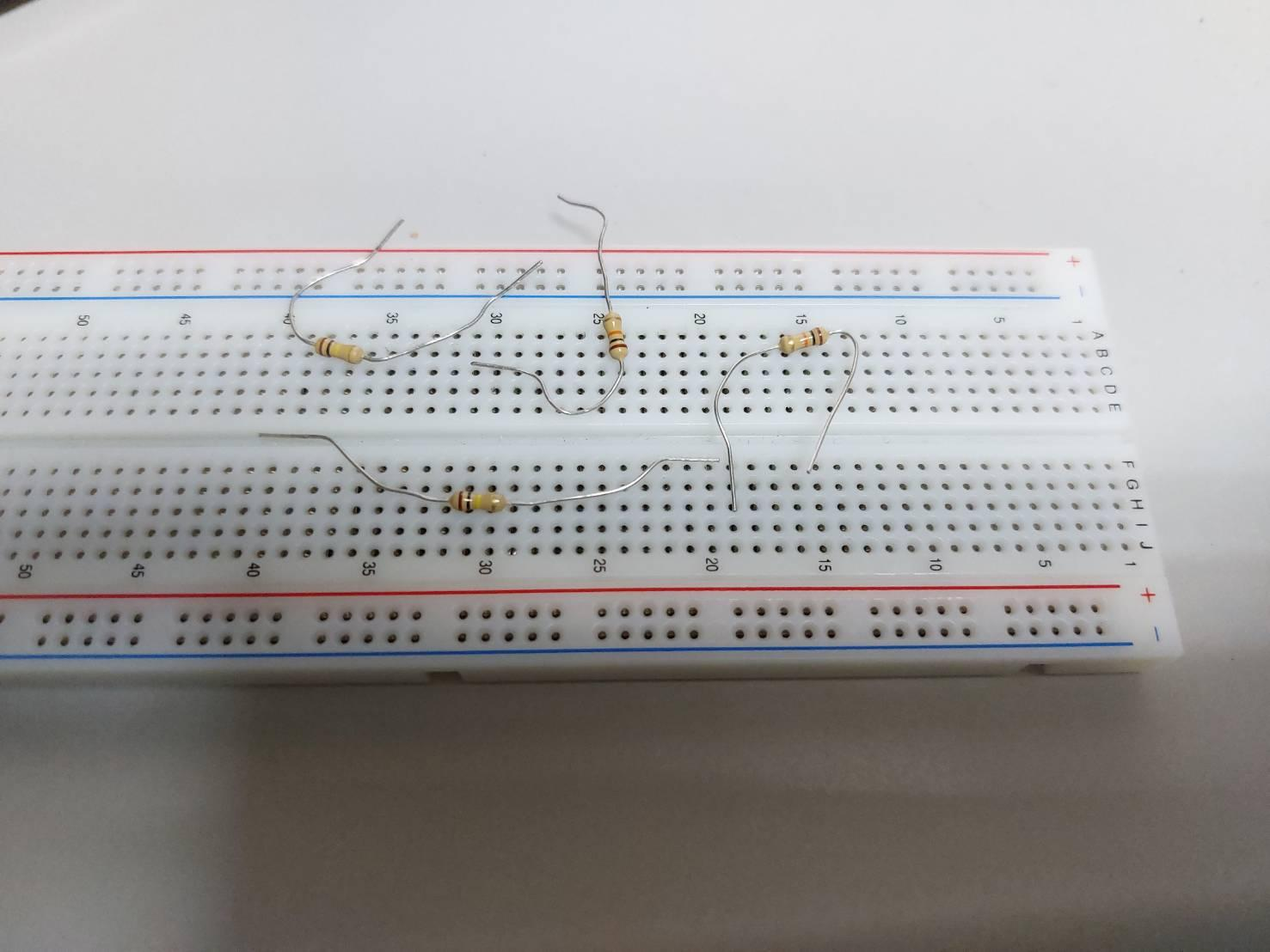resistor: (779, 325, 830, 353), (314, 337, 364, 364), (449, 490, 508, 512), (605, 311, 630, 362)
